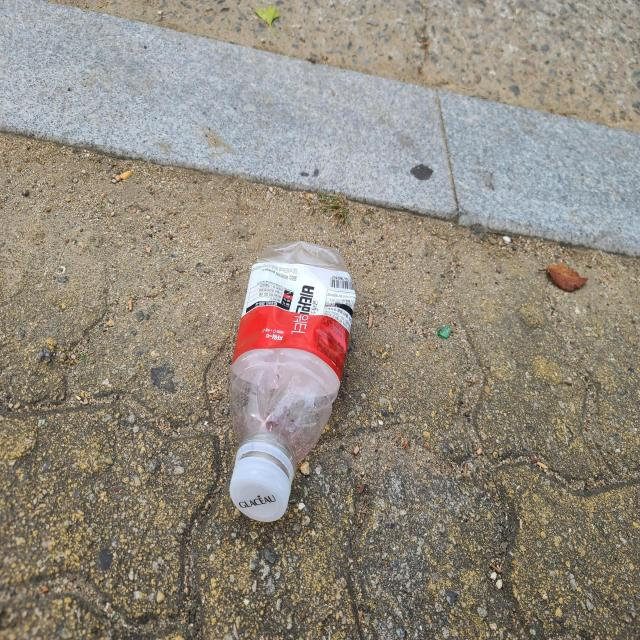plastic: (230, 241, 356, 522)
